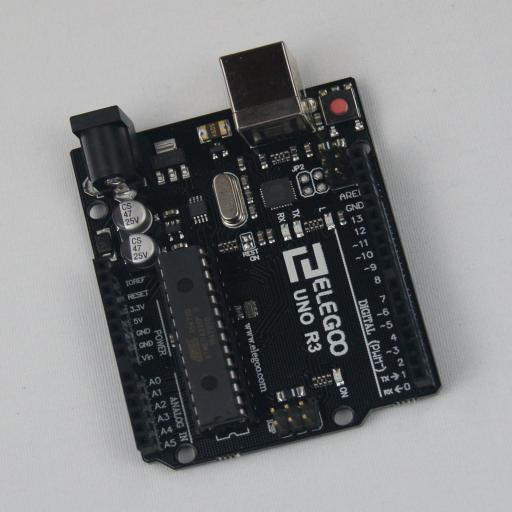Arduino Uno -Black-: (70, 41, 442, 471)
